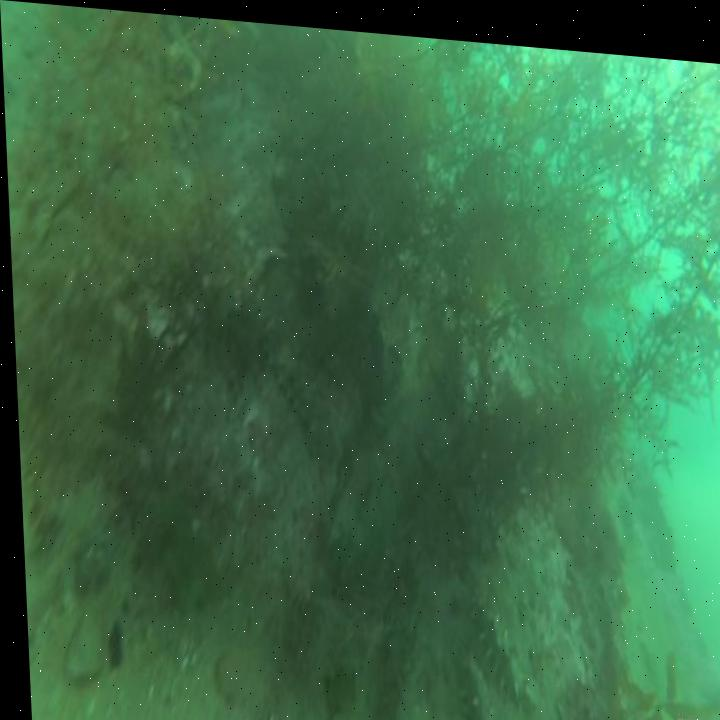holothurian: (261, 315, 334, 440), (470, 584, 538, 711), (450, 636, 496, 720)
